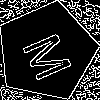M: (22, 27, 82, 84)
